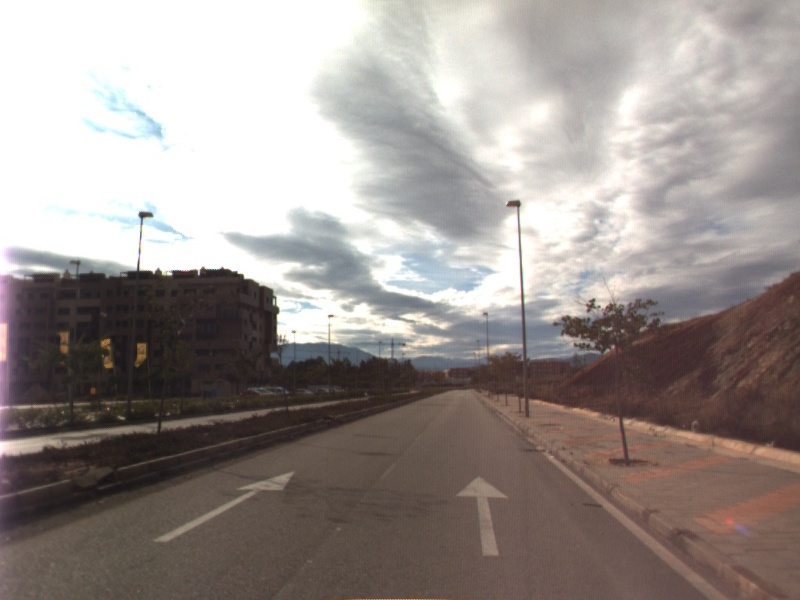STRAIGHT: (151, 469, 297, 545), (454, 473, 510, 558)
